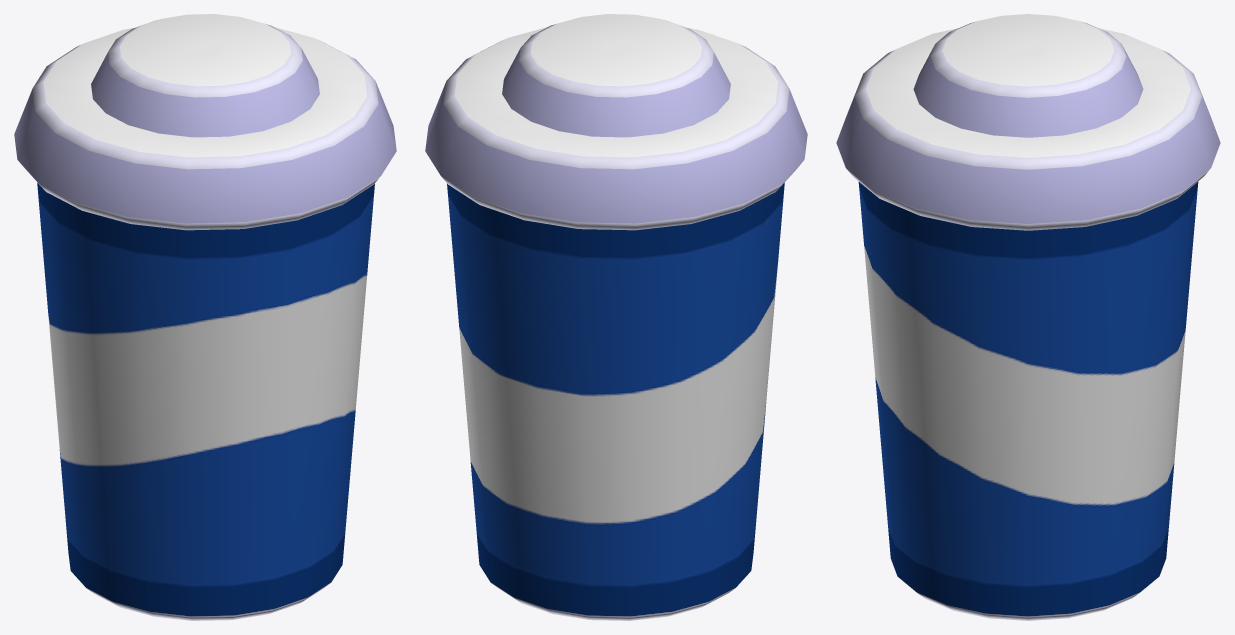
File: Pep_Cup.fbx
The picture shows the model from 3 angles, left to right: view 1: azimuth 30°, elevation 25°; view 2: azimuth 150°, elevation 25°; view 3: azimuth 270°, elevation 25°; orthographic projection.
Parts seen in each view (by area): view 1: Pep_Cup; view 2: Pep_Cup; view 3: Pep_Cup.
Part boxes in pixels (left/top/right/bottom): Pep_Cup: left=14, top=14, right=396, bottom=620; Pep_Cup: left=425, top=14, right=807, bottom=620; Pep_Cup: left=836, top=14, right=1220, bottom=620.
Bounding box in the file's own units: 110 × 163 × 110.
Materials: 1 (1 with a texture image).
